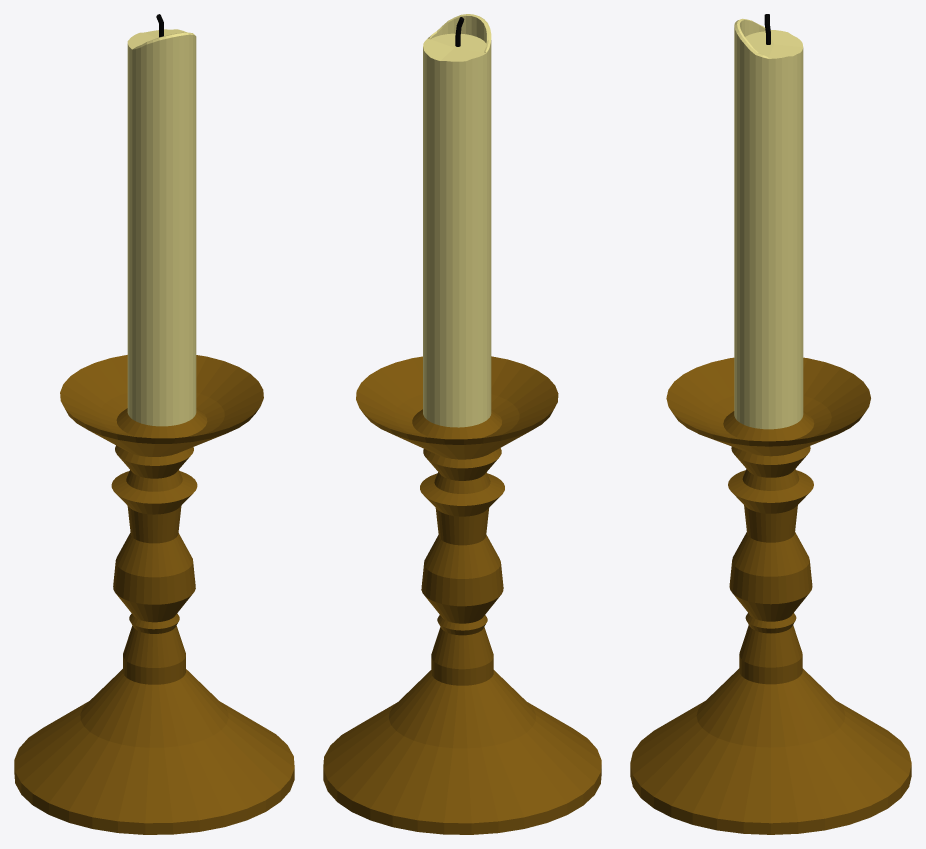
File: FancyCandle.fbx
3 renders of one model, left to right at view 1: azimuth 30°, elevation 25°; view 2: azimuth 150°, elevation 25°; view 3: azimuth 270°, elevation 25°, orthographic.
Parts seen in each view (by area): view 1: Candle; view 2: Candle; view 3: Candle.
Part boxes in pixels (x1,y1,x2,y2): Candle: (14,14,294,834); Candle: (323,14,601,834); Candle: (630,14,911,834).
Size of the model in its own units: 124 by 370 by 124.
